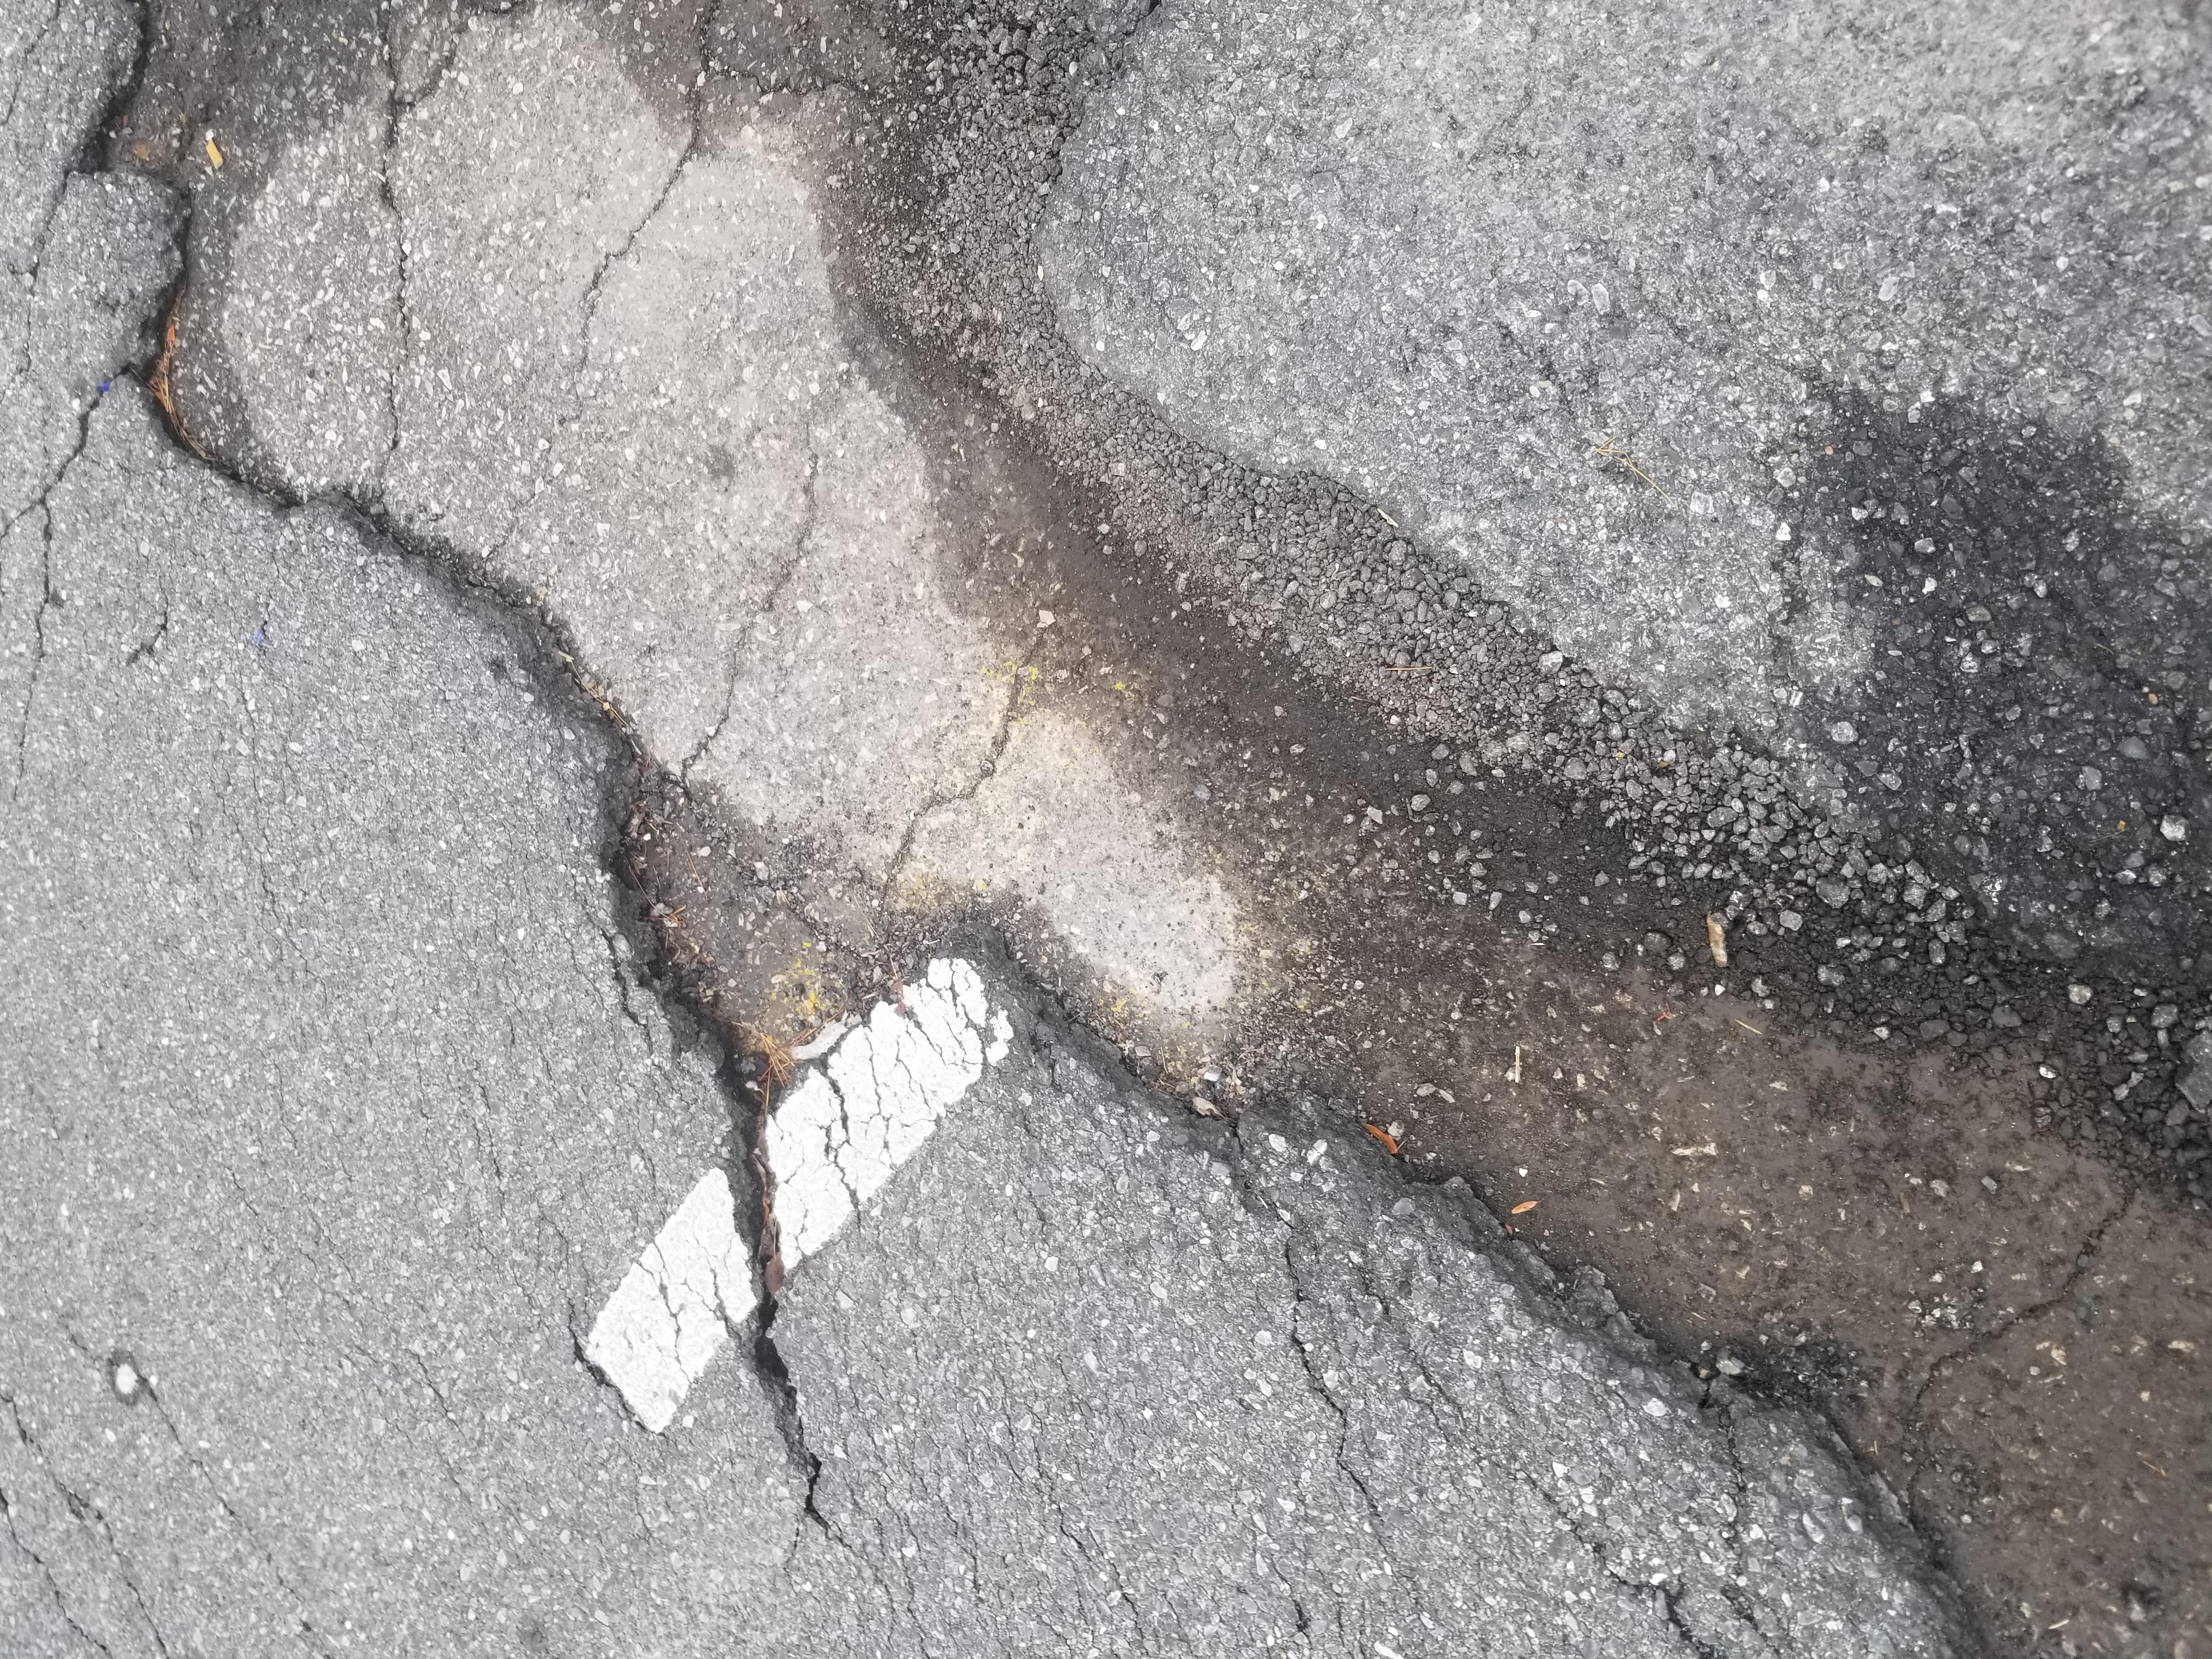pothole: (923, 0, 2212, 1049)
